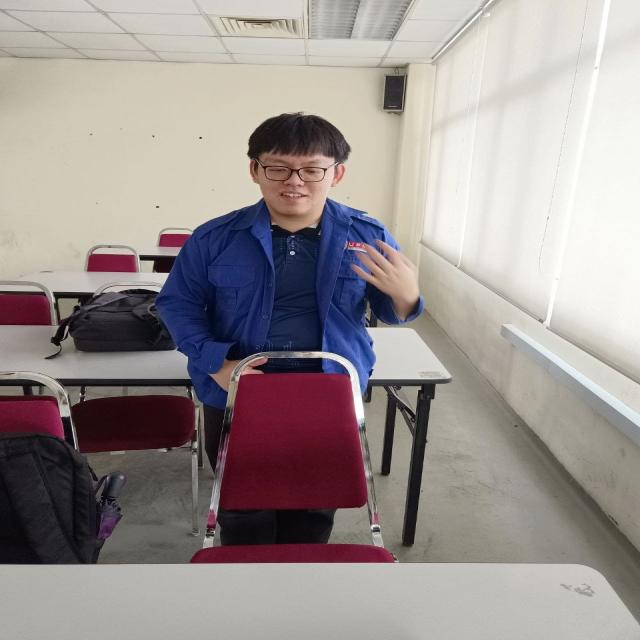person_with_labcoat: (159, 114, 423, 466)
